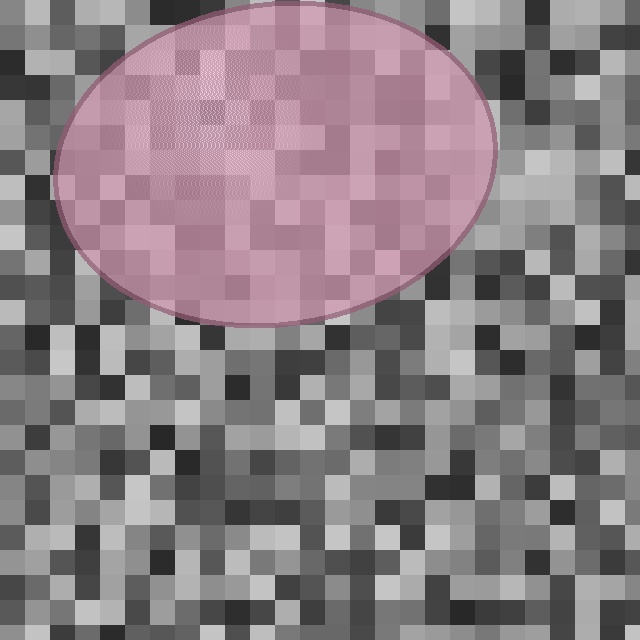lens: (56, 3, 494, 325)
